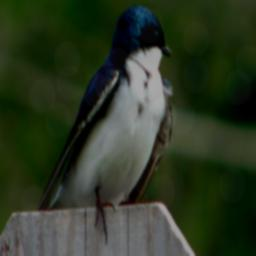Swallow: (35, 1, 175, 246)
